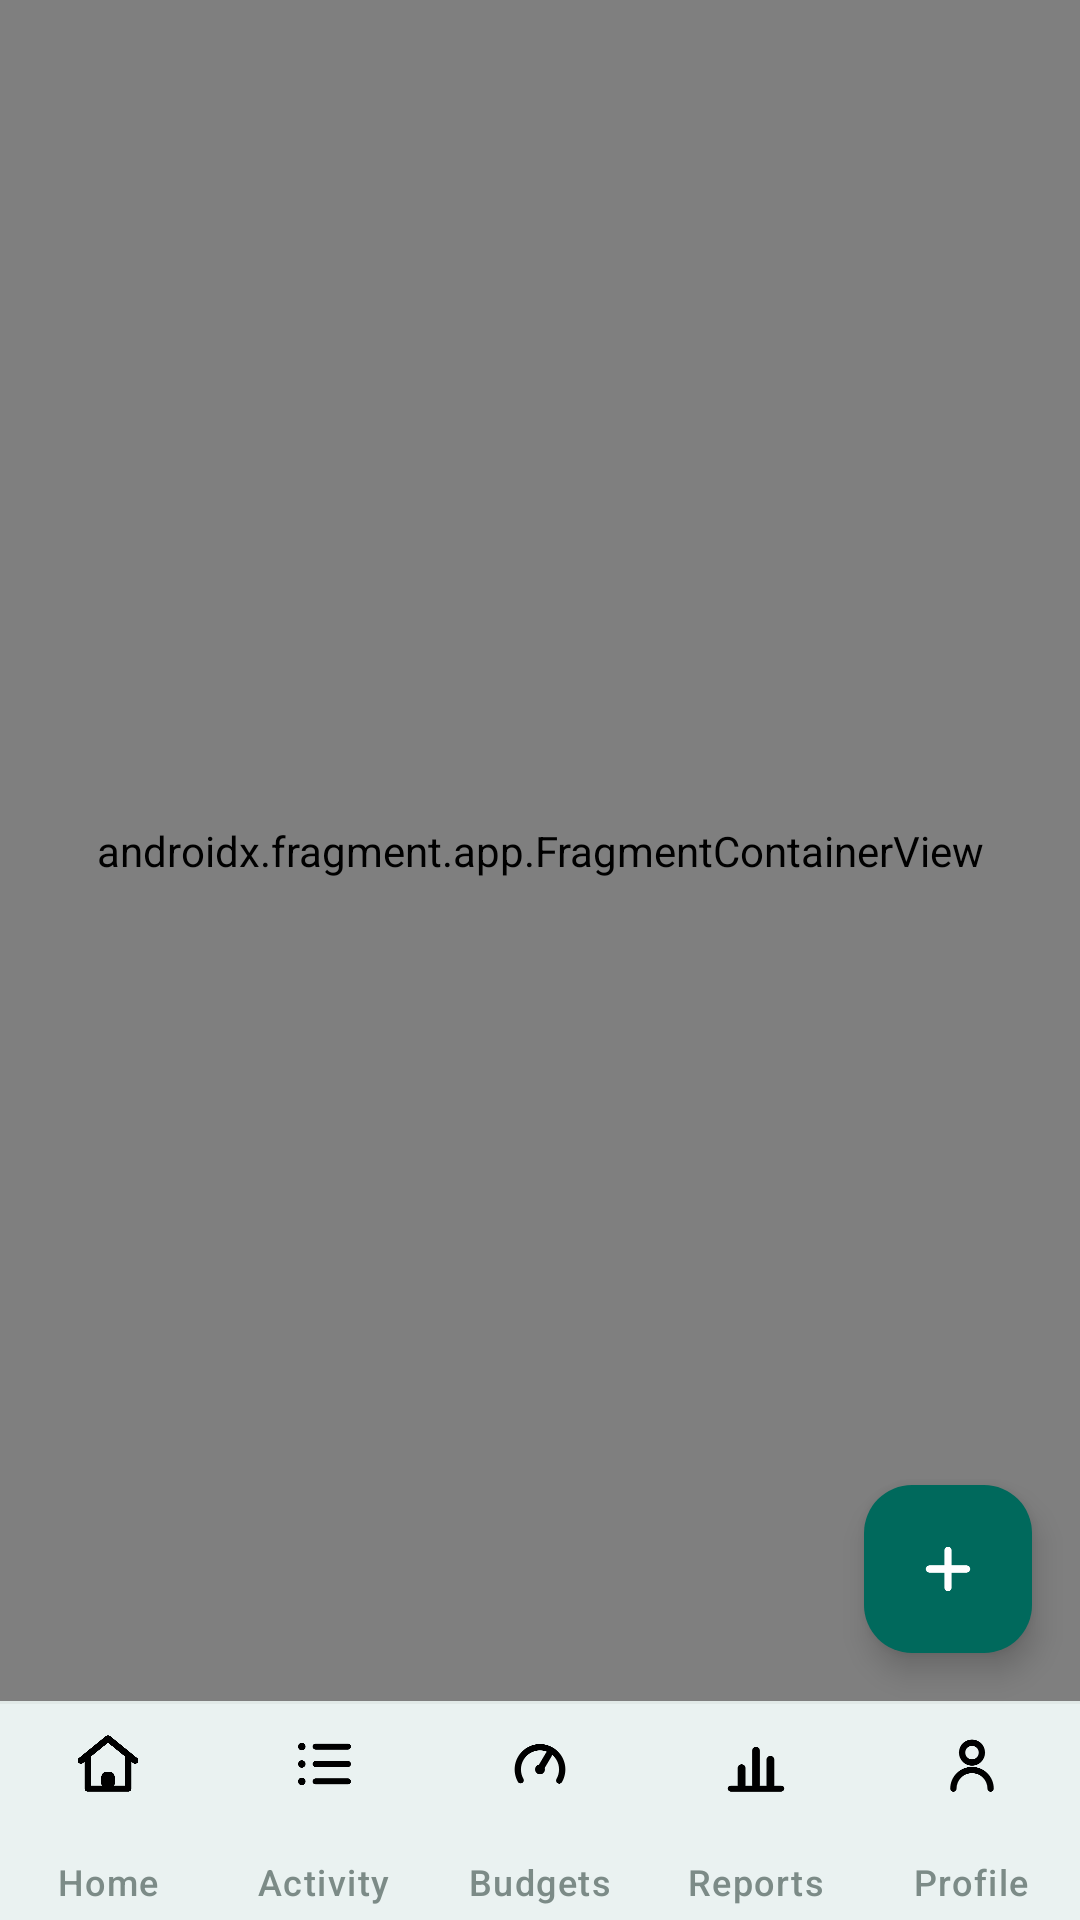

Icon bounding boxes for this 1080×1920 phone screenshot, format {"x1": x1, "y1": y1, "x2": x2, "y2": y2}:
Add transaction: {"x1": 864, "y1": 1485, "x2": 1032, "y2": 1653}
